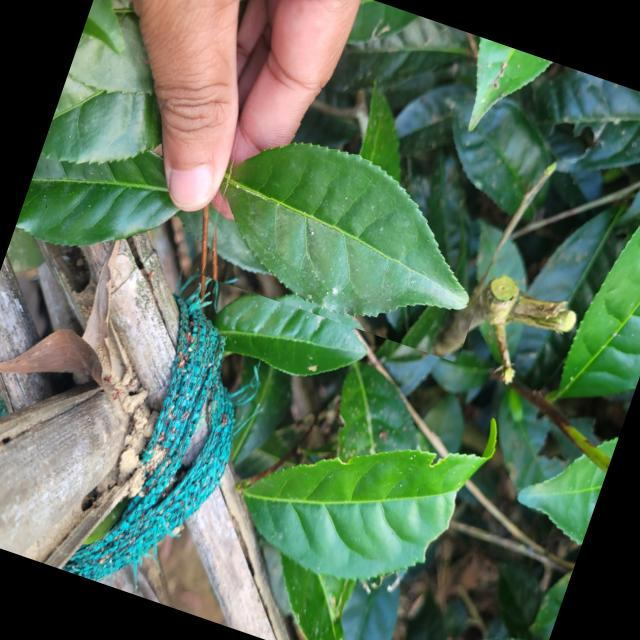Category D(7+ days, Not for Tea): (188, 94, 516, 362)
